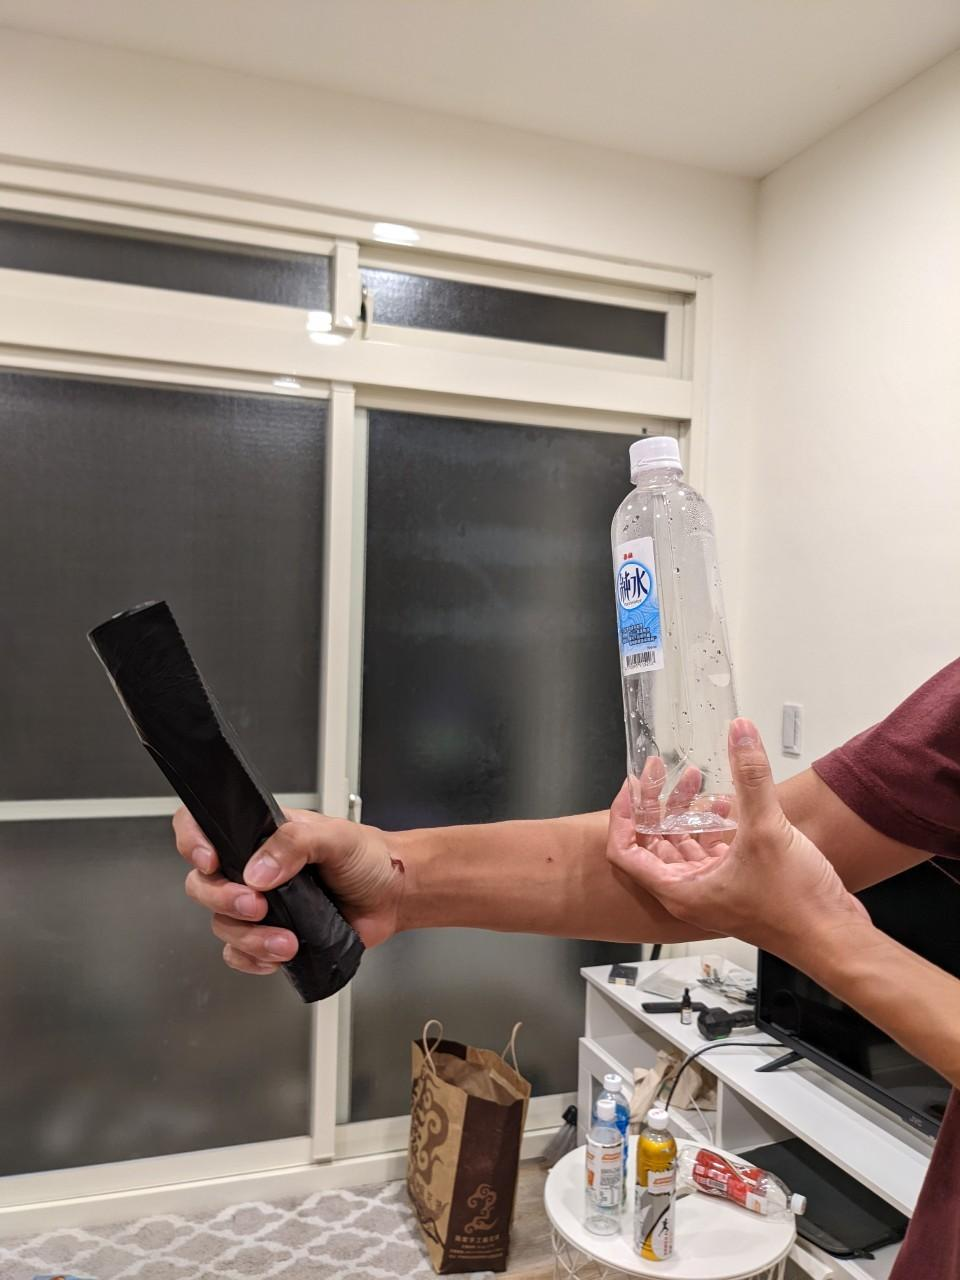BIODEGRADABLE: (602, 425, 765, 840)
